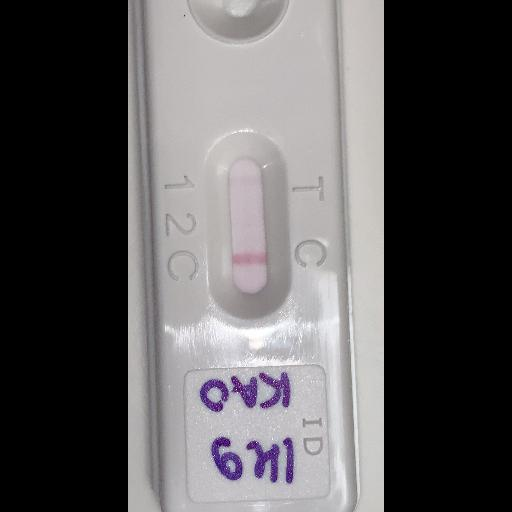Neg: (140, 0, 352, 504)
